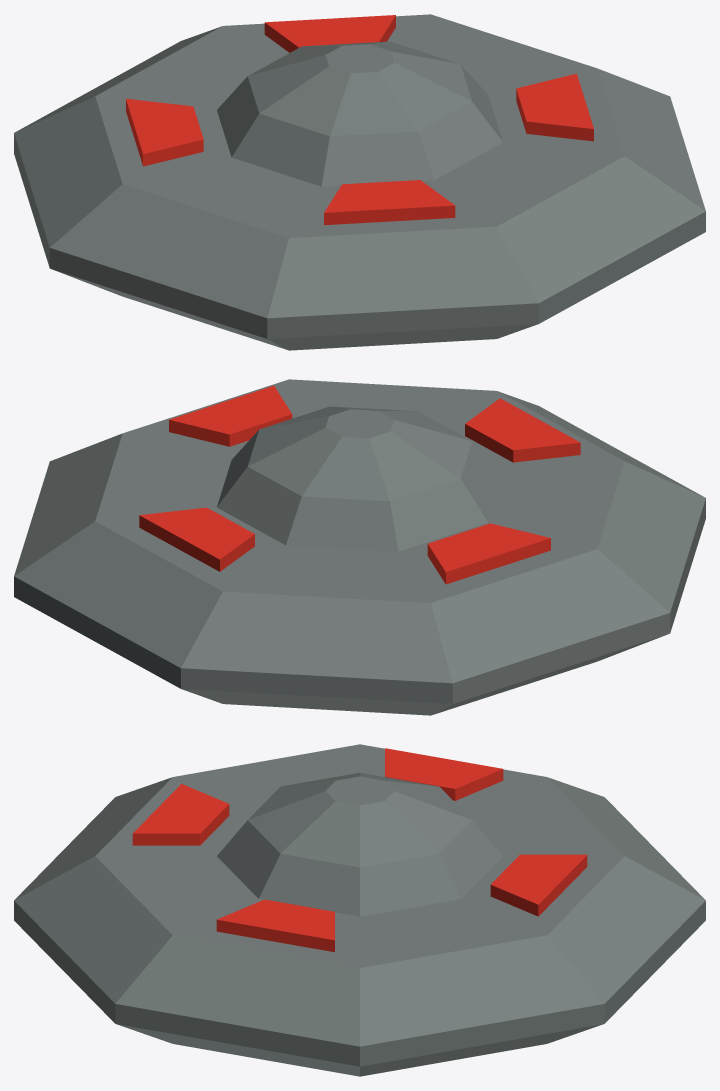
The model's file is ufo.fbx.
The picture shows the model from 3 angles, top to bottom: view 1: azimuth 30°, elevation 25°; view 2: azimuth 150°, elevation 25°; view 3: azimuth 270°, elevation 25°; orthographic projection. The views are drawn at different scales.
Visible parts, largest first — view 1: Enemy; view 2: Enemy; view 3: Enemy.
Part boxes in pixels (x1,y1,x2,y2): Enemy: (14,14,705,350); Enemy: (14,379,705,715); Enemy: (14,744,705,1076).
Size of the model in its own units: 826 by 229 by 826.
